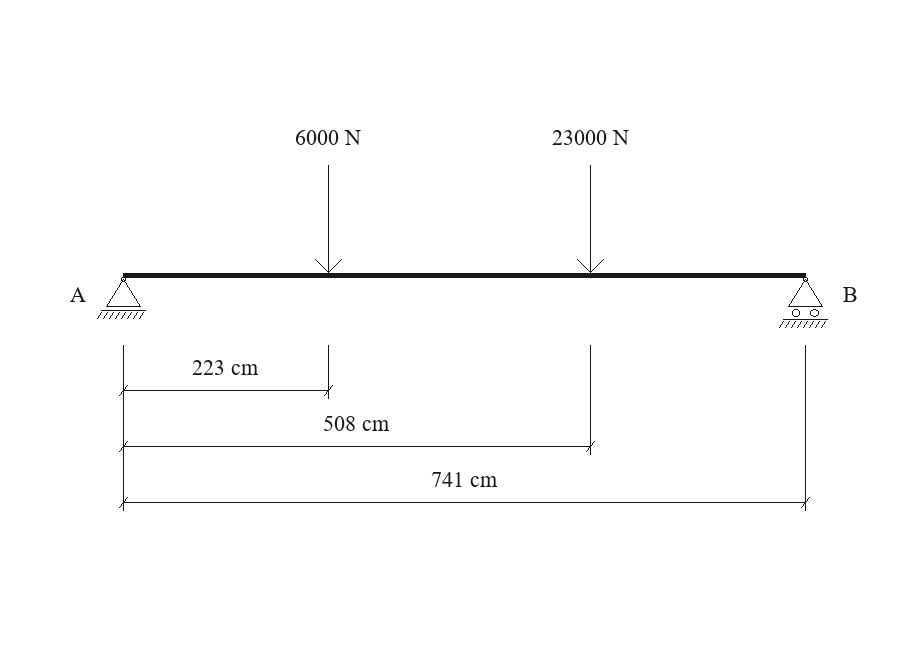pin_support: (97, 277, 146, 319)
point_load: (315, 165, 342, 273), (577, 165, 604, 273)
roller_support: (779, 277, 828, 328)
